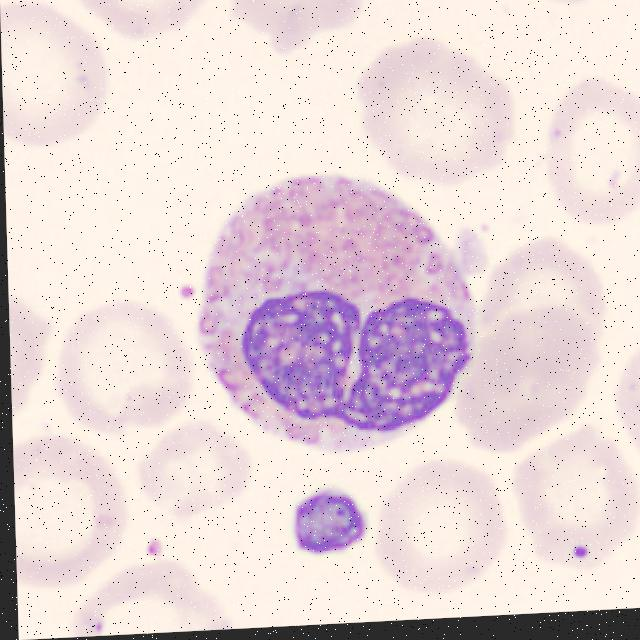eosinophil: (190, 168, 483, 445)
platelets: (282, 477, 382, 565)
rbc: (362, 36, 525, 185), (533, 62, 640, 247), (56, 309, 193, 452), (31, 551, 250, 639), (461, 306, 593, 452), (1, 3, 124, 157), (507, 425, 636, 571), (477, 222, 614, 356), (13, 433, 129, 590), (376, 455, 504, 586), (39, 0, 222, 47), (219, 0, 367, 58), (9, 301, 51, 428)
